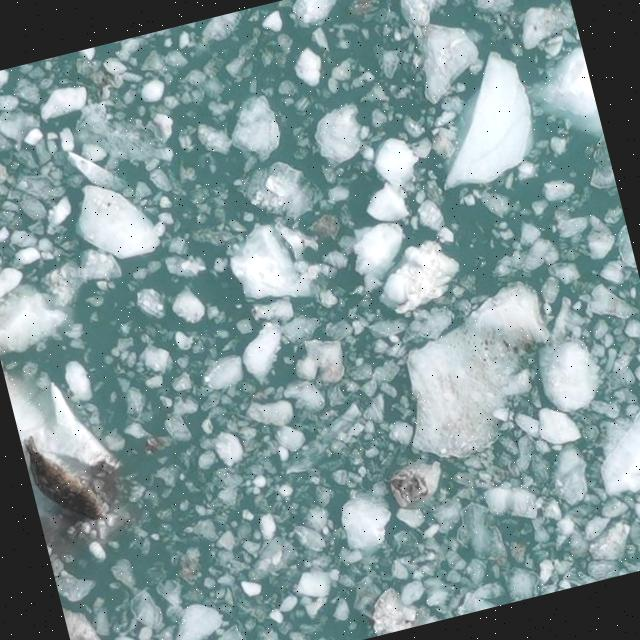seal: (1, 429, 112, 536)
